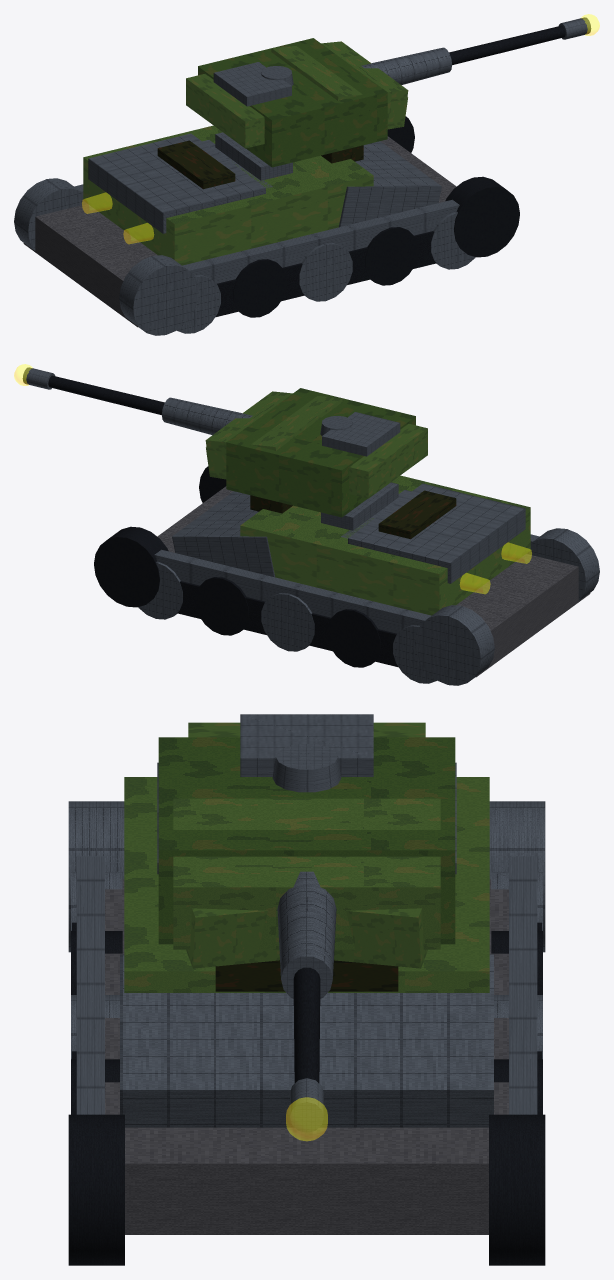
The model's file is tank.glb.
3 renders of one model, top to bottom at view 1: azimuth 30°, elevation 25°; view 2: azimuth 150°, elevation 25°; view 3: azimuth 270°, elevation 25°, orthographic. The views are drawn at different scales.
Visible parts, largest first — view 1: vehicle_upper_hull, vehicle_turret_body, vehicle_hull_base, vehicle_rear_deck, vehicle_track_guard_right, vehicle_end_wheel_1_0, vehicle_glacis, vehicle_end_wheel_1_1, vehicle_turret_front, vehicle_turret_bustle, vehicle_road_wheel_1_1, vehicle_road_wheel_1_3 (+16 smaller); view 2: vehicle_upper_hull, vehicle_turret_body, vehicle_hull_base, vehicle_rear_deck, vehicle_track_guard_left, vehicle_end_wheel_0_0, vehicle_glacis, vehicle_end_wheel_0_1, vehicle_turret_front, vehicle_turret_bustle, vehicle_road_wheel_0_1, vehicle_road_wheel_0_3 (+16 smaller); view 3: vehicle_glacis, vehicle_hull_base, vehicle_turret_front, vehicle_turret_body, vehicle_upper_hull, vehicle_end_wheel_0_1, vehicle_end_wheel_1_1, vehicle_track_guard_left, vehicle_track_guard_right, vehicle_turret_roof, vehicle_barrel_shroud, vehicle_turret_cheek_0 (+11 smaller).
Part boxes in pixels (bbox=[...]): vehicle_upper_hull: bbox=[83, 125, 373, 265]; vehicle_turret_body: bbox=[198, 38, 387, 167]; vehicle_hull_base: bbox=[23, 136, 456, 327]; vehicle_rear_deck: bbox=[88, 133, 265, 233]; vehicle_track_guard_right: bbox=[182, 199, 459, 283]; vehicle_end_wheel_1_0: bbox=[119, 255, 198, 335]; vehicle_glacis: bbox=[339, 141, 441, 227]; vehicle_end_wheel_1_1: bbox=[445, 176, 519, 257]; vehicle_turret_front: bbox=[271, 41, 408, 125]; vehicle_turret_bustle: bbox=[186, 73, 264, 148]; vehicle_road_wheel_1_1: bbox=[233, 259, 286, 317]; vehicle_road_wheel_1_3: bbox=[365, 227, 418, 285]; vehicle_upper_hull: bbox=[240, 475, 530, 615]; vehicle_turret_body: bbox=[226, 388, 415, 517]; vehicle_hull_base: bbox=[157, 486, 590, 677]; vehicle_rear_deck: bbox=[348, 483, 525, 583]; vehicle_track_guard_left: bbox=[154, 549, 431, 633]; vehicle_end_wheel_0_0: bbox=[415, 605, 494, 685]; vehicle_glacis: bbox=[172, 491, 274, 577]; vehicle_end_wheel_0_1: bbox=[94, 526, 168, 607]; vehicle_turret_front: bbox=[205, 391, 342, 475]; vehicle_turret_bustle: bbox=[349, 423, 427, 498]; vehicle_road_wheel_0_1: bbox=[327, 609, 380, 667]; vehicle_road_wheel_0_3: bbox=[195, 577, 248, 635]; vehicle_glacis: bbox=[120, 954, 493, 1127]; vehicle_hull_base: bbox=[105, 879, 508, 1234]; vehicle_turret_front: bbox=[173, 798, 440, 949]; vehicle_turret_body: bbox=[158, 737, 455, 944]; vehicle_upper_hull: bbox=[124, 777, 489, 992]; vehicle_end_wheel_0_1: bbox=[489, 1114, 545, 1265]; vehicle_end_wheel_1_1: bbox=[68, 1114, 124, 1265]; vehicle_track_guard_left: bbox=[509, 856, 537, 1114]; vehicle_track_guard_right: bbox=[76, 856, 104, 1114]; vehicle_turret_roof: bbox=[240, 714, 373, 776]; vehicle_barrel_shroud: bbox=[277, 871, 336, 998]; vehicle_turret_cheek_0: bbox=[334, 908, 427, 968].
Size of the model in its own units: 81.72 by 27.25 by 32.12.
7 materials, 6 textured.
